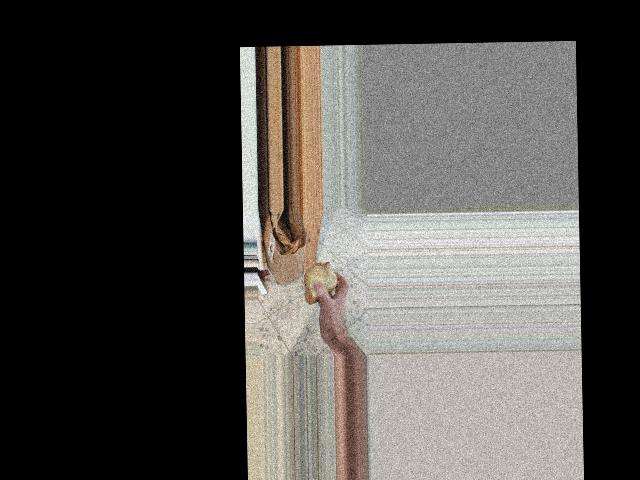onion: (301, 261, 341, 306)
